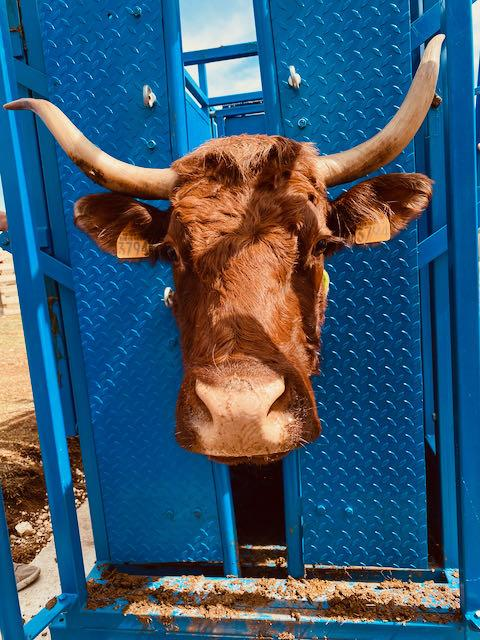muzzles: (173, 371, 323, 463)
